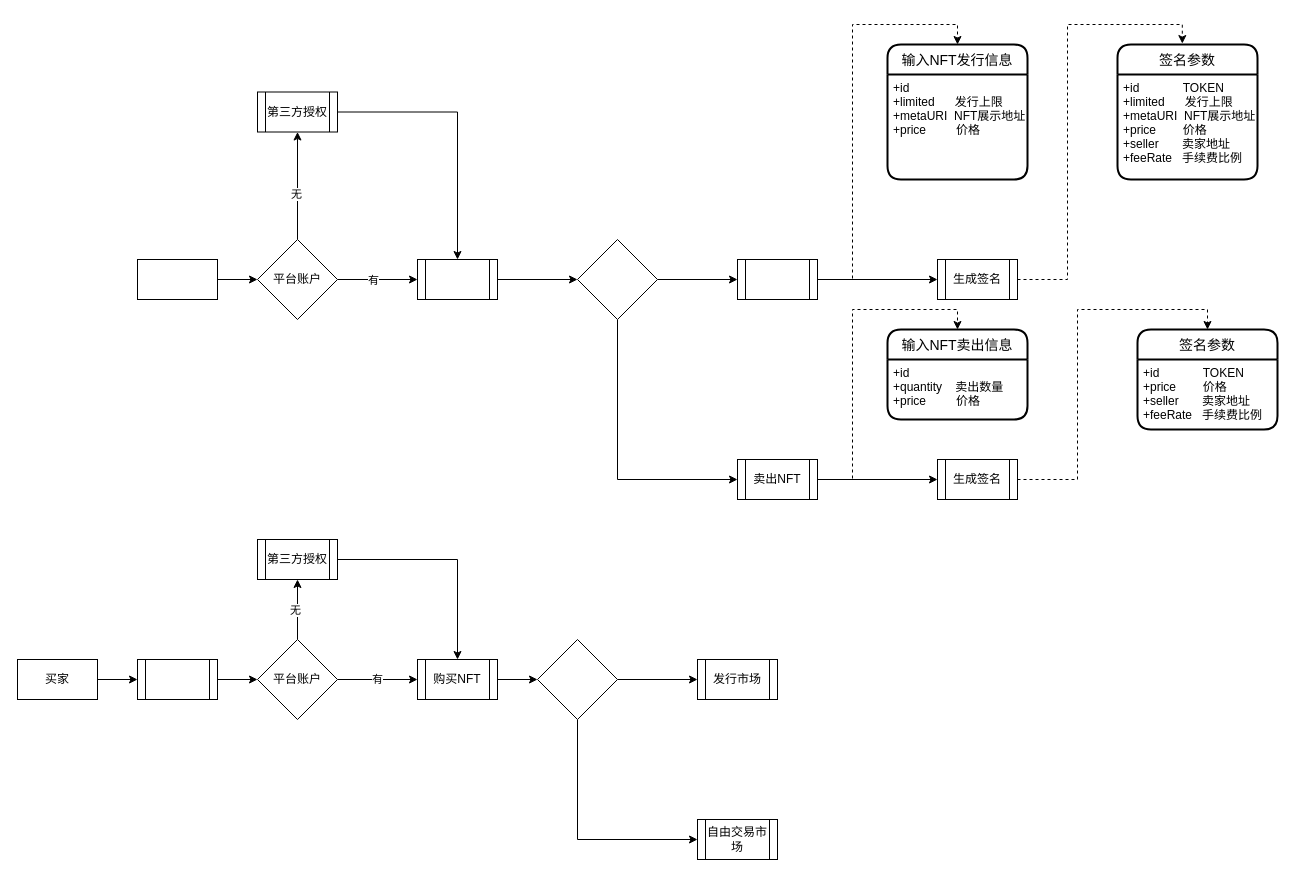
Some shapes in this 1296 by 877 pixel diagram are drawn without their labels. The centre of each missing label's shape, as x and y in pixels:
"动作" belongs at [617,279].
"卖家" belongs at [177,279].
"发行NFT" belongs at [777,279].
"市场" belongs at [577,679].
"授权NFT" belongs at [457,279].
"浏览NFT" belongs at [177,679].
